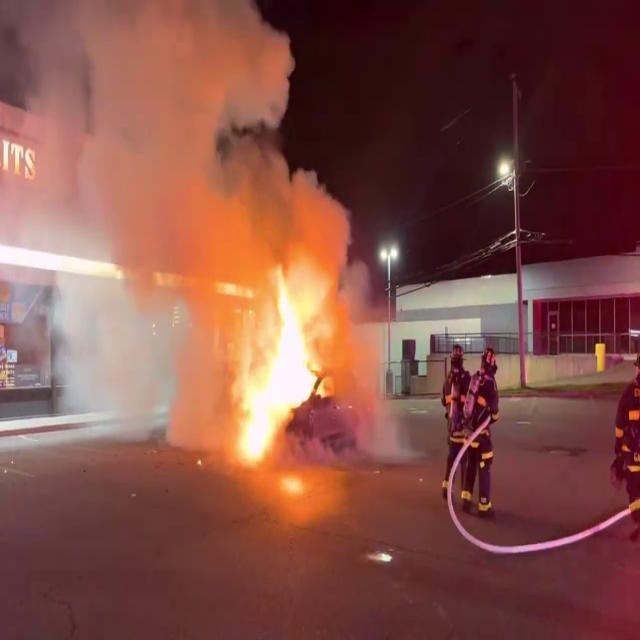Fire: (222, 254, 336, 466)
Smoke: (0, 0, 334, 288)
